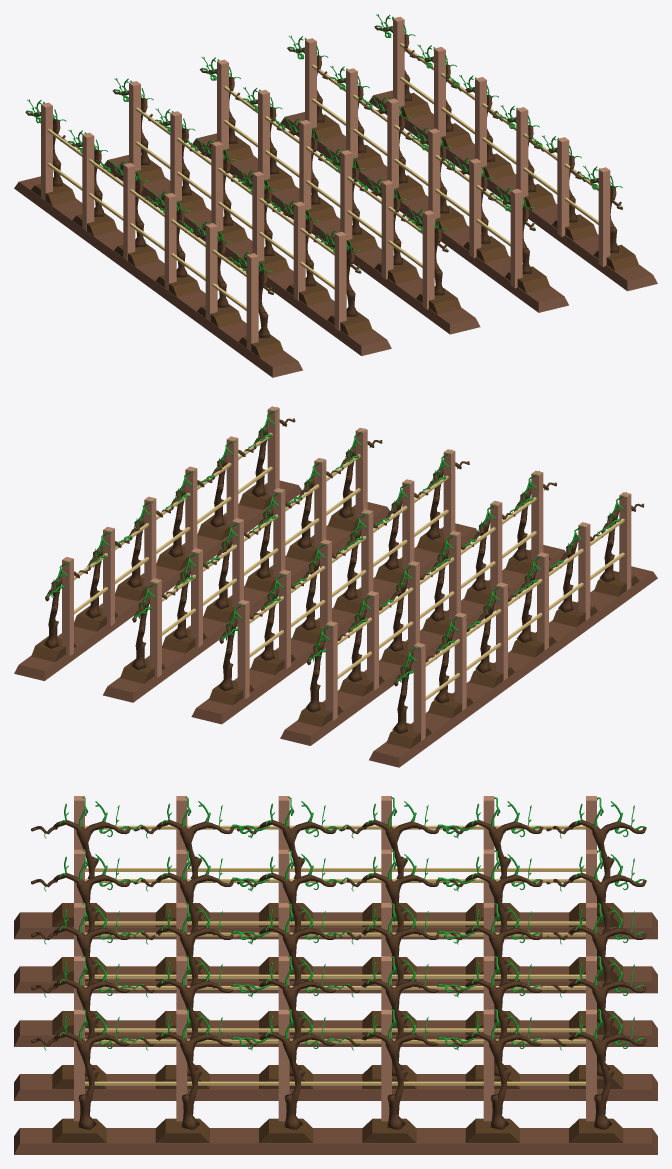
The model's file is Vineyard Summer.fbx.
The picture shows the model from 3 angles, top to bottom: view 1: azimuth 30°, elevation 25°; view 2: azimuth 150°, elevation 25°; view 3: azimuth 270°, elevation 25°; orthographic projection. The views are drawn at different scales.
Visible parts, largest first — view 1: Trellis pole, Soil Furrow, Cube.010, Dirt mound, Trellis wire; view 2: Trellis pole, Cube.010, Soil Furrow, Dirt mound, Trellis wire; view 3: Soil Furrow, Cube.010, Dirt mound, Trellis pole, Trellis wire.
Boxes of the visible parts, x1,y1,x2,y2 form: Trellis pole: (41, 16, 610, 351); Soil Furrow: (14, 90, 657, 377); Cube.010: (25, 14, 622, 337); Dirt mound: (31, 92, 639, 357); Trellis wire: (47, 43, 598, 310); Trellis pole: (62, 406, 631, 740); Cube.010: (43, 407, 644, 733); Soil Furrow: (14, 480, 657, 767); Dirt mound: (31, 484, 639, 748); Trellis wire: (74, 432, 624, 700); Soil Furrow: (14, 912, 657, 1154); Cube.010: (31, 797, 646, 1129); Dirt mound: (52, 903, 623, 1142); Trellis pole: (74, 796, 596, 1121); Trellis wire: (85, 825, 585, 1085).
Bounding box in the file's own units: 302 × 76.37 × 351.
